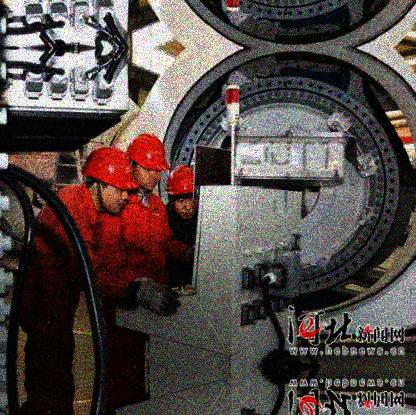helmet: (83, 147, 139, 215), (129, 134, 171, 195), (167, 164, 197, 220)
